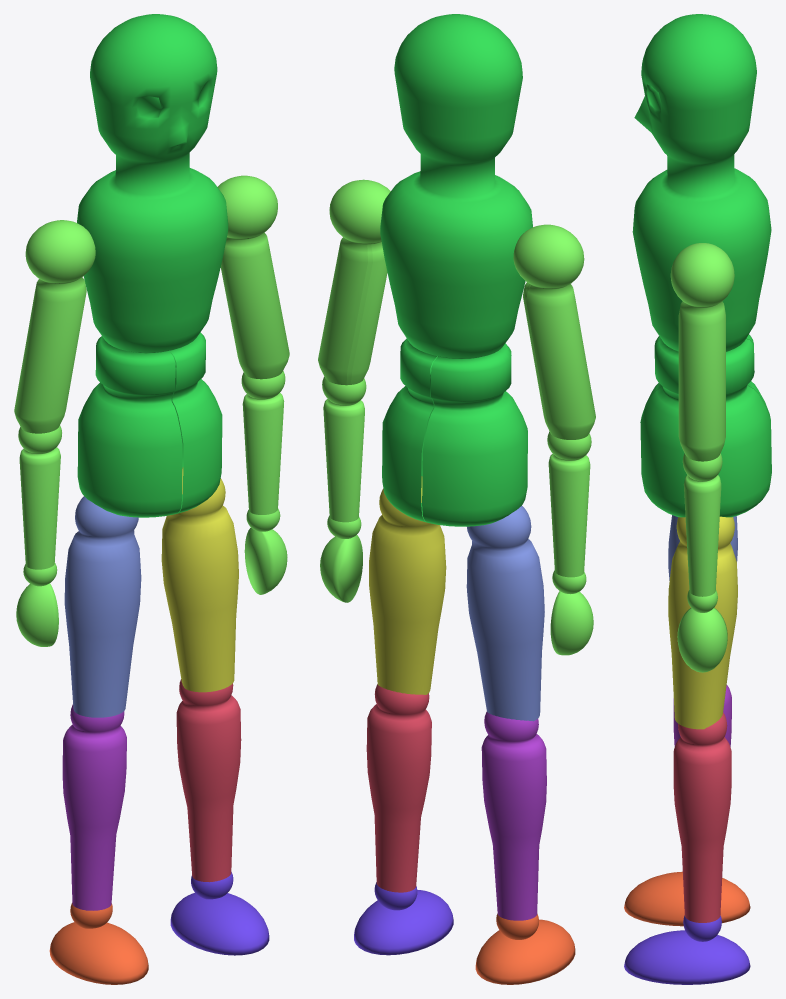
Rendered from biped.fbx.
The picture shows the model from 3 angles, left to right: view 1: azimuth 30°, elevation 25°; view 2: azimuth 150°, elevation 25°; view 3: azimuth 270°, elevation 25°; orthographic projection.
Parts seen in each view (by area): view 1: pelvis_convexhull, rightArm, leftArm, rightThigh_convexhull, leftThigh_convexhull, rightCalf_convexhull, leftCalf_convexHull, rightFoot_convexhull, leftFoot_convexhull; view 2: pelvis_convexhull, rightArm, leftArm, rightThigh_convexhull, leftThigh_convexhull, rightCalf_convexhull, leftCalf_convexHull, rightFoot_convexhull, leftFoot_convexhull; view 3: pelvis_convexhull, leftArm, leftCalf_convexHull, leftThigh_convexhull, leftFoot_convexhull, rightFoot_convexhull, rightThigh_convexhull, rightCalf_convexhull.
Part boxes in pixels (<box>): pelvis_convexhull: <box>77,14,228,517</box>; rightArm: <box>14,220,95,646</box>; leftArm: <box>217,175,289,594</box>; rightThigh_convexhull: <box>64,496,141,717</box>; leftThigh_convexhull: <box>161,467,238,692</box>; rightCalf_convexhull: <box>62,704,126,910</box>; leftCalf_convexHull: <box>176,679,241,882</box>; rightFoot_convexhull: <box>49,903,148,984</box>; leftFoot_convexhull: <box>170,872,269,955</box>; pelvis_convexhull: <box>380,14,532,526</box>; rightArm: <box>513,224,595,655</box>; leftArm: <box>318,179,390,602</box>; rightThigh_convexhull: <box>466,506,544,721</box>; leftThigh_convexhull: <box>369,476,446,694</box>; rightCalf_convexhull: <box>481,711,546,920</box>; leftCalf_convexHull: <box>366,684,431,892</box>; rightFoot_convexhull: <box>475,913,575,984</box>; leftFoot_convexhull: <box>354,882,453,955</box>; pelvis_convexhull: <box>632,14,771,517</box>; leftArm: <box>670,243,734,672</box>; leftCalf_convexHull: <box>673,712,731,922</box>; leftThigh_convexhull: <box>668,516,737,729</box>; leftFoot_convexhull: <box>624,915,750,984</box>; rightFoot_convexhull: <box>624,871,750,926</box>; rightThigh_convexhull: <box>668,515,737,580</box>; rightCalf_convexhull: <box>673,685,731,746</box>.
Bounding box in the file's own units: 546 × 261 × 1782.
